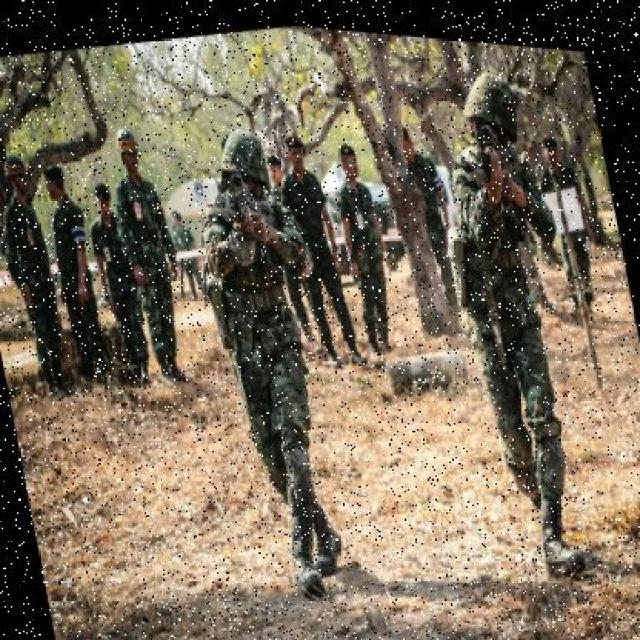MIL_Pax: (423, 63, 611, 566), (191, 108, 347, 582), (0, 137, 80, 400), (274, 122, 361, 353), (320, 119, 409, 338), (111, 120, 186, 360), (28, 157, 107, 383), (80, 175, 157, 392), (389, 113, 471, 299), (530, 100, 588, 200), (161, 191, 204, 298)
